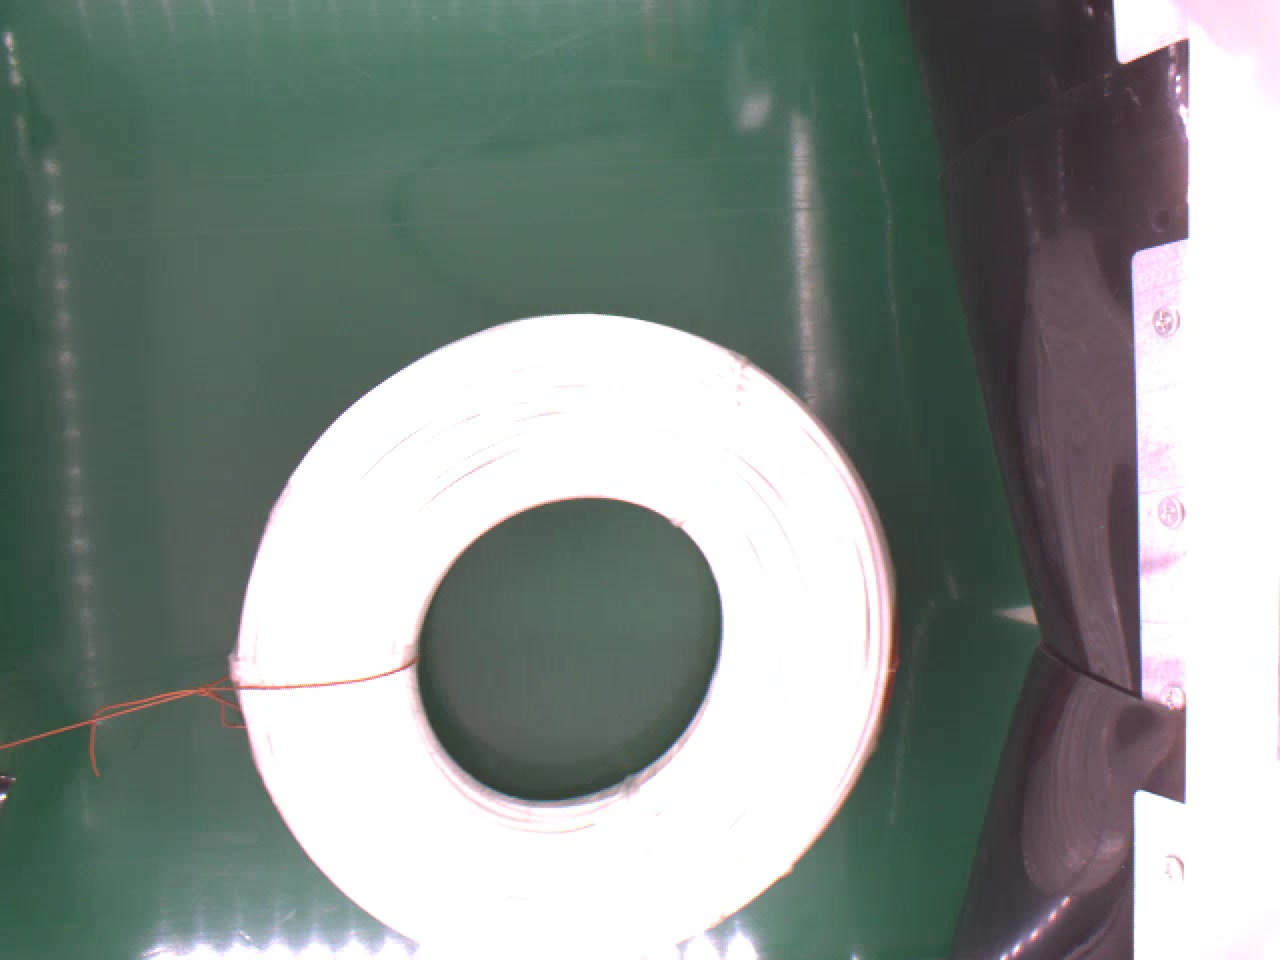white: (230, 309, 906, 953)
